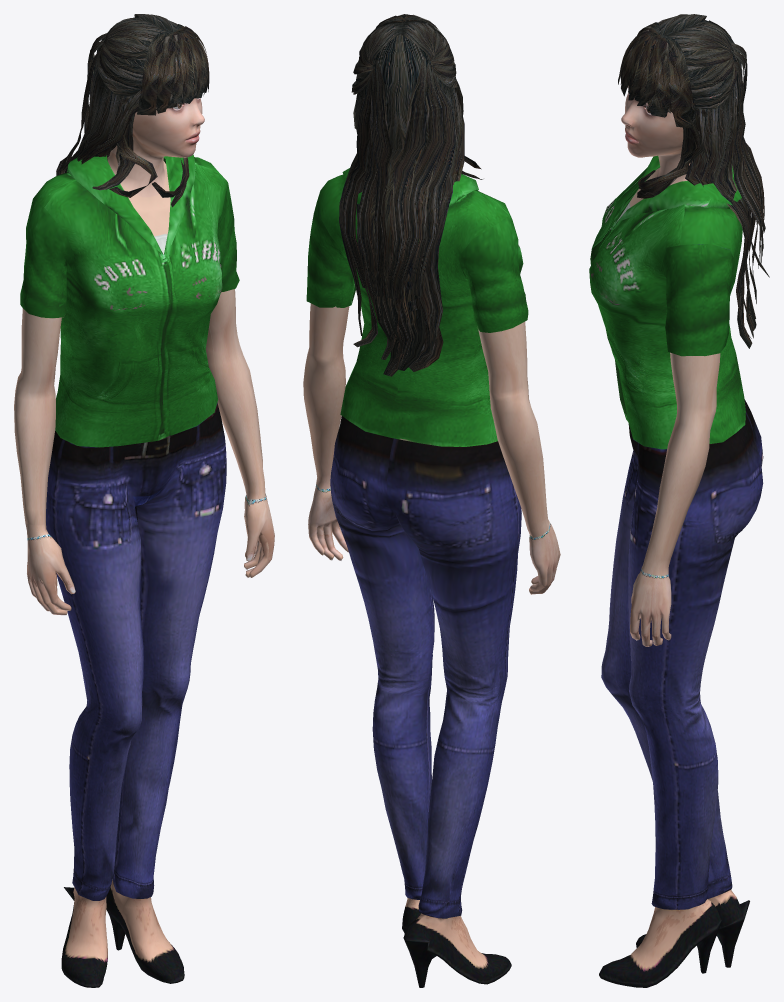
Rendered from woman2.fbx.
3 renders of one model, left to right at view 1: azimuth 30°, elevation 25°; view 2: azimuth 150°, elevation 25°; view 3: azimuth 270°, elevation 25°, orthographic. The views are drawn at different scales.
Visible parts, largest first — view 1: Female3_2; view 2: Female3_2; view 3: Female3_2.
Part boxes in pixels (left/top/right/bottom): Female3_2: left=14, top=14, right=274, bottom=987; Female3_2: left=303, top=14, right=560, bottom=987; Female3_2: left=589, top=14, right=769, bottom=987.
Size of the model in its own units: 4707 by 17562 by 2980.
